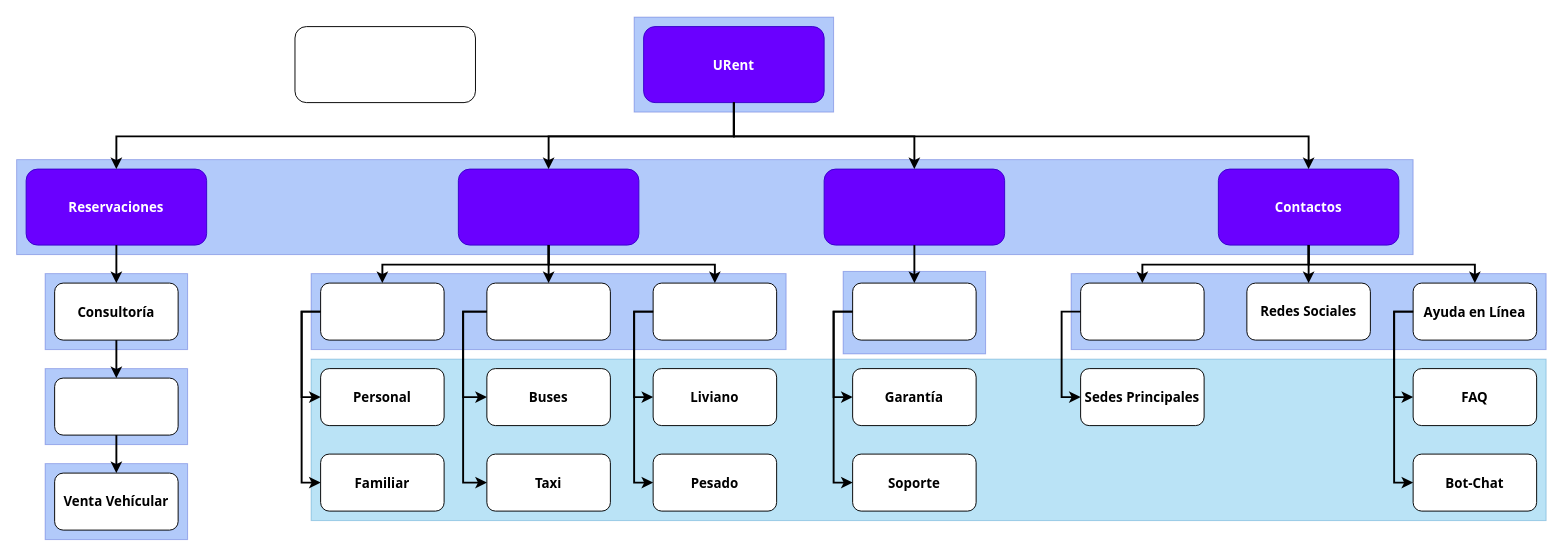
This 1563x556 diagram has some shape labels left out. Here are the shapes that lost their labels. From the top down, the centre of each, then its label:
(384,64): John Palacios SOFT 6-1 Diseño UX
(548,206): Vehículos
(914,206): Servicios
(382,311): Personales
(548,311): Profesionales
(714,311): Carga
(914,311): Técnico
(1142,311): Locales
(116,406): Solicitud Vehícular
